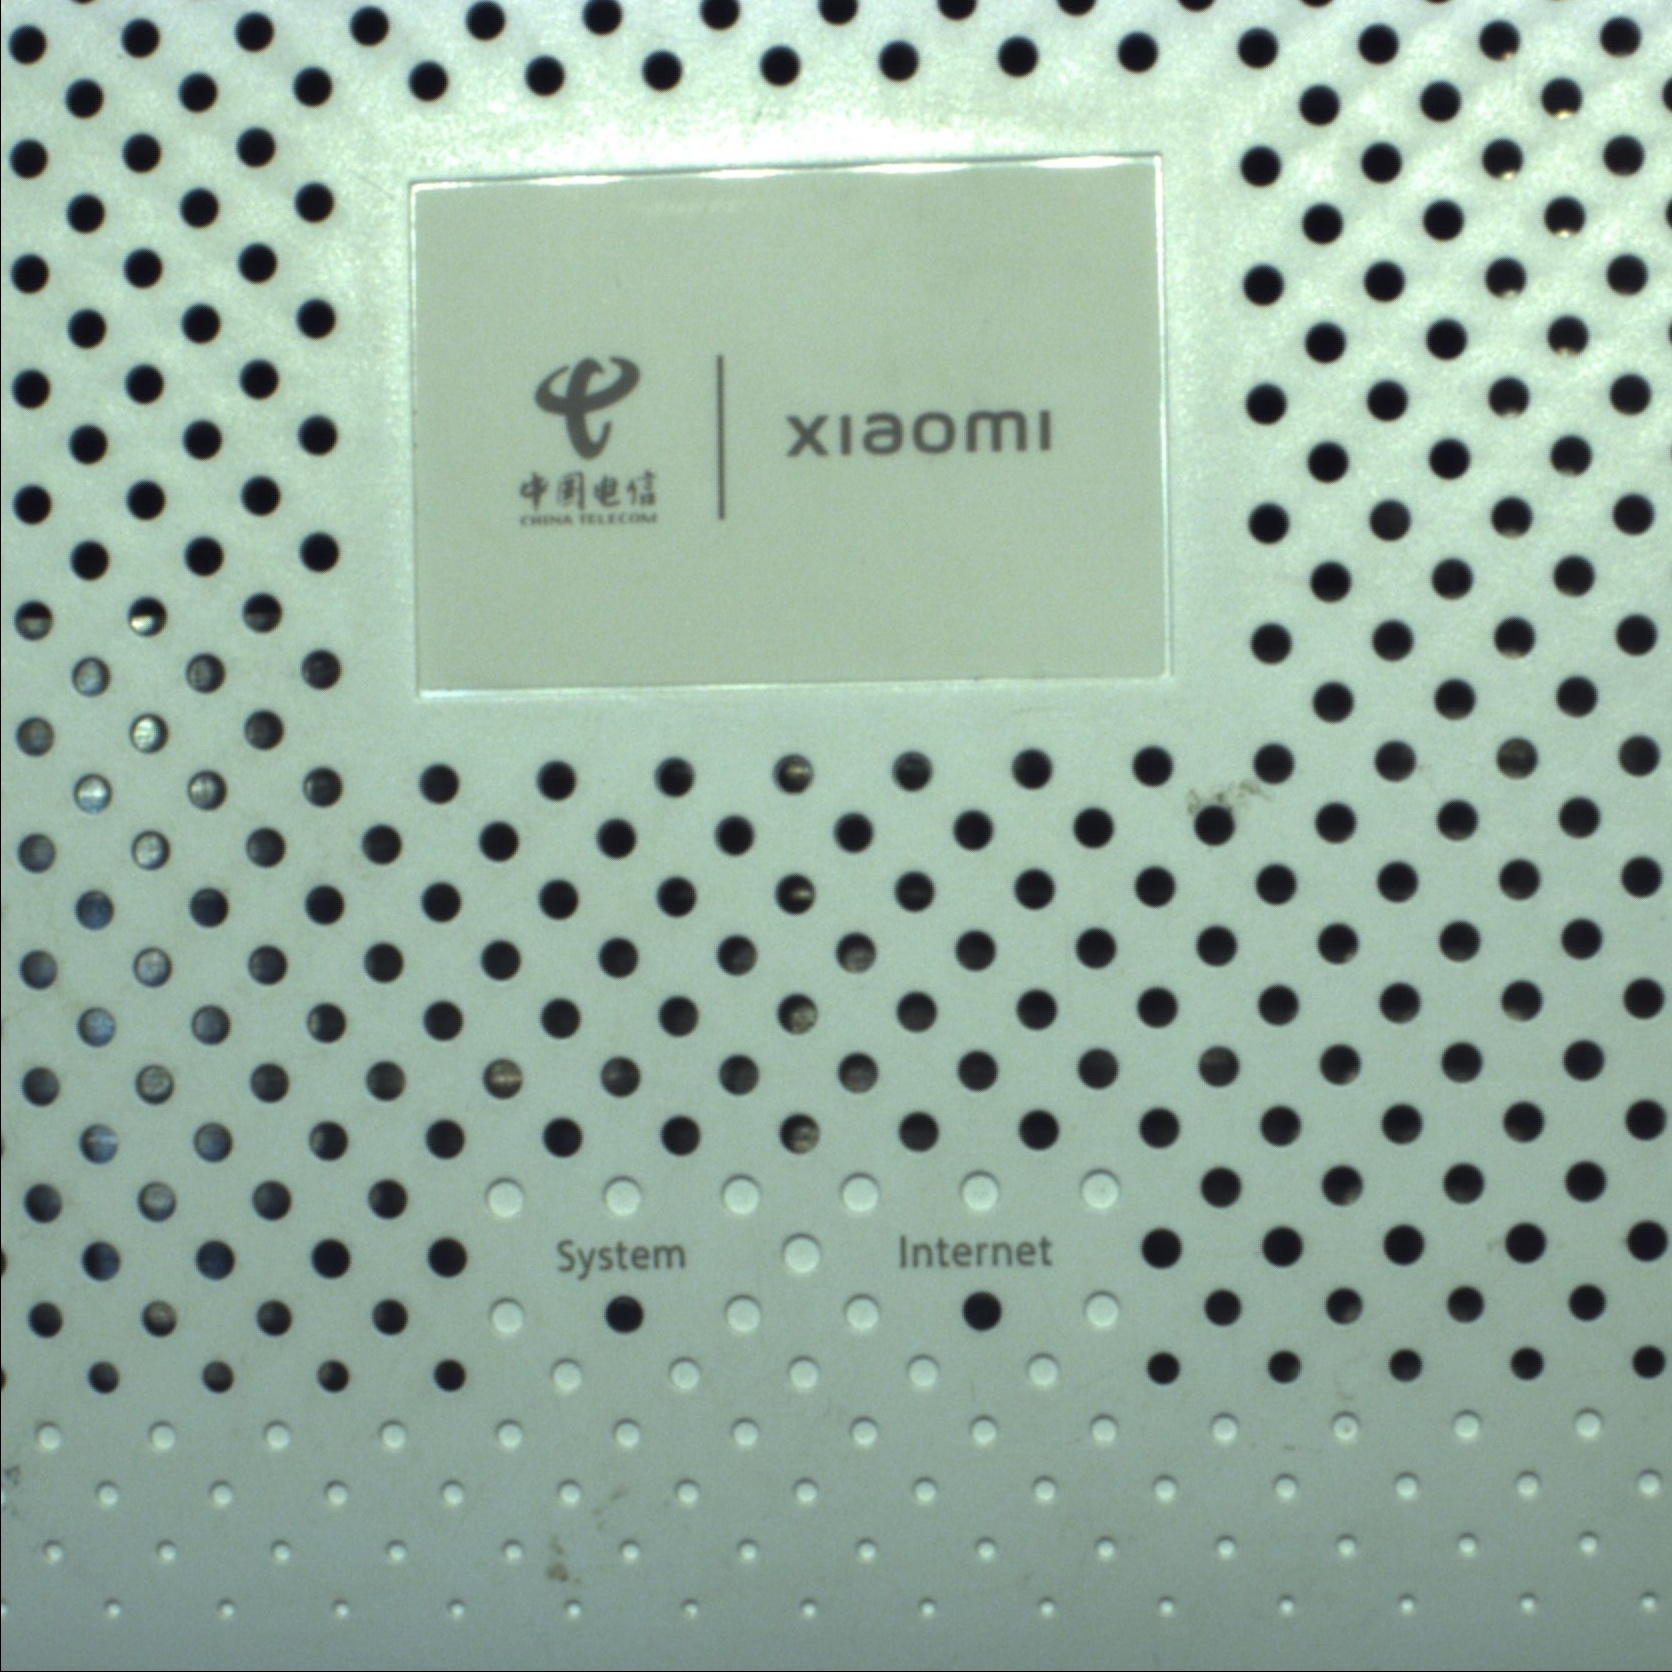MAA_Telecom: (498, 335, 1076, 554)
